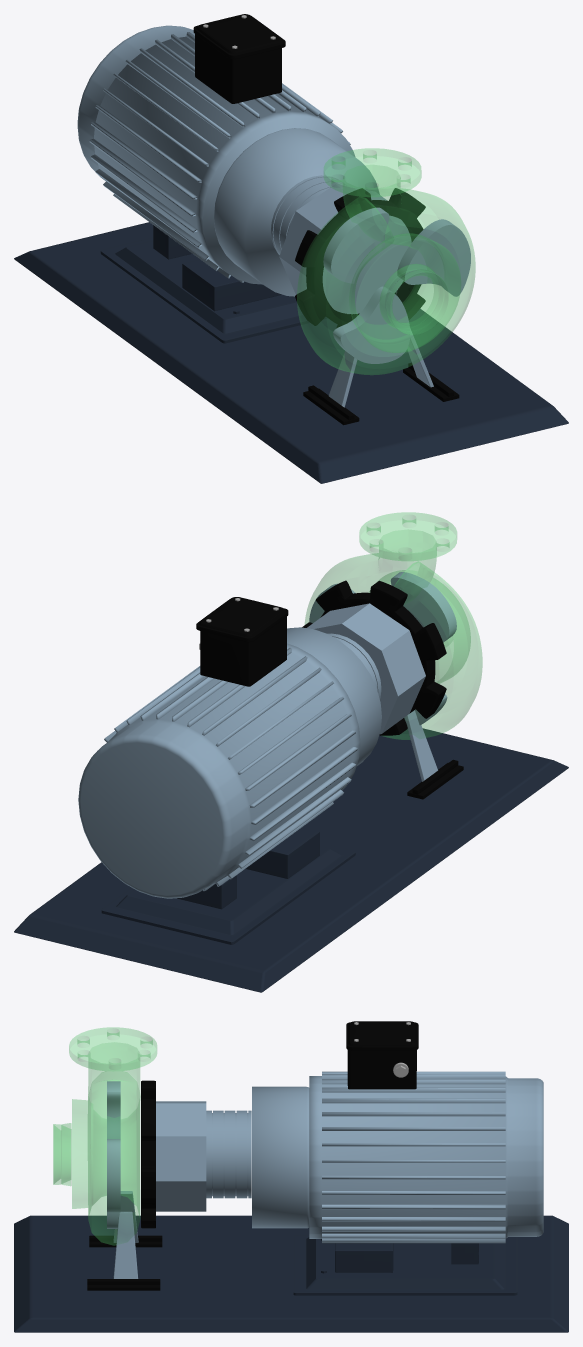
File: 冷却泵.glb
3 renders of one model, top to bottom at view 1: azimuth 30°, elevation 25°; view 2: azimuth 150°, elevation 25°; view 3: azimuth 270°, elevation 25°, orthographic. The views are drawn at different scales.
Parts seen in each view (by area): view 1: 立方体042, 柱体044, 柱体036, 立方体043, 柱体037, 立方体050, Gear001, 柱体034, 柱体035, 柱体044_1, 立方体049; view 2: 立方体042, 柱体036, 柱体044, 立方体050, 柱体034, Gear001, 柱体037, 立方体043, 立方体049, 柱体044_1, 柱体035; view 3: 立方体042, 柱体036, 柱体044, 柱体037, 柱体034, 立方体050, 柱体035, Gear001, 立方体043, 立方体047, 柱体044_1, 立方体049 (+2 smaller).
Boxes of the visible parts, x1,y1,x2,y2 form: 立方体042: (14, 222, 568, 483); 柱体044: (297, 148, 475, 374); 柱体036: (77, 25, 355, 284); 立方体043: (323, 207, 470, 363); 柱体037: (214, 128, 379, 296); 立方体050: (193, 14, 285, 103); Gear001: (295, 188, 425, 328); 柱体034: (279, 184, 411, 314); 柱体035: (271, 175, 346, 254); 柱体044_1: (331, 150, 411, 194); 立方体049: (328, 351, 357, 407); 立方体042: (14, 728, 568, 992); 柱体036: (78, 643, 360, 898); 柱体044: (305, 512, 482, 739); 立方体050: (196, 597, 288, 686); 柱体034: (306, 603, 425, 734); Gear001: (302, 580, 446, 735); 柱体037: (287, 627, 381, 765); 立方体043: (309, 572, 456, 725); 立方体049: (404, 710, 437, 781); 柱体044_1: (367, 515, 449, 560); 柱体035: (327, 633, 381, 699); 立方体042: (14, 1215, 568, 1332); 柱体036: (309, 1071, 543, 1243); 柱体044: (53, 1027, 156, 1245); 柱体037: (252, 1086, 309, 1228); 柱体034: (156, 1101, 206, 1211); 立方体050: (346, 1021, 418, 1089); 柱体035: (206, 1110, 251, 1198); Gear001: (141, 1080, 155, 1228); 立方体043: (107, 1081, 120, 1228); 立方体047: (113, 1211, 138, 1278); 柱体044_1: (77, 1028, 152, 1069); 立方体049: (113, 1191, 138, 1242).
Size of the model in its own units: 43.89 by 46.06 by 94.14.
